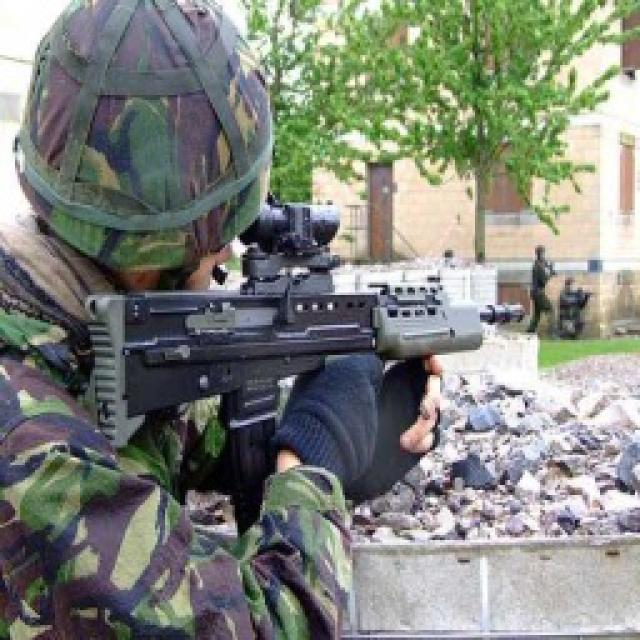long weapon: (202, 180, 544, 488)
